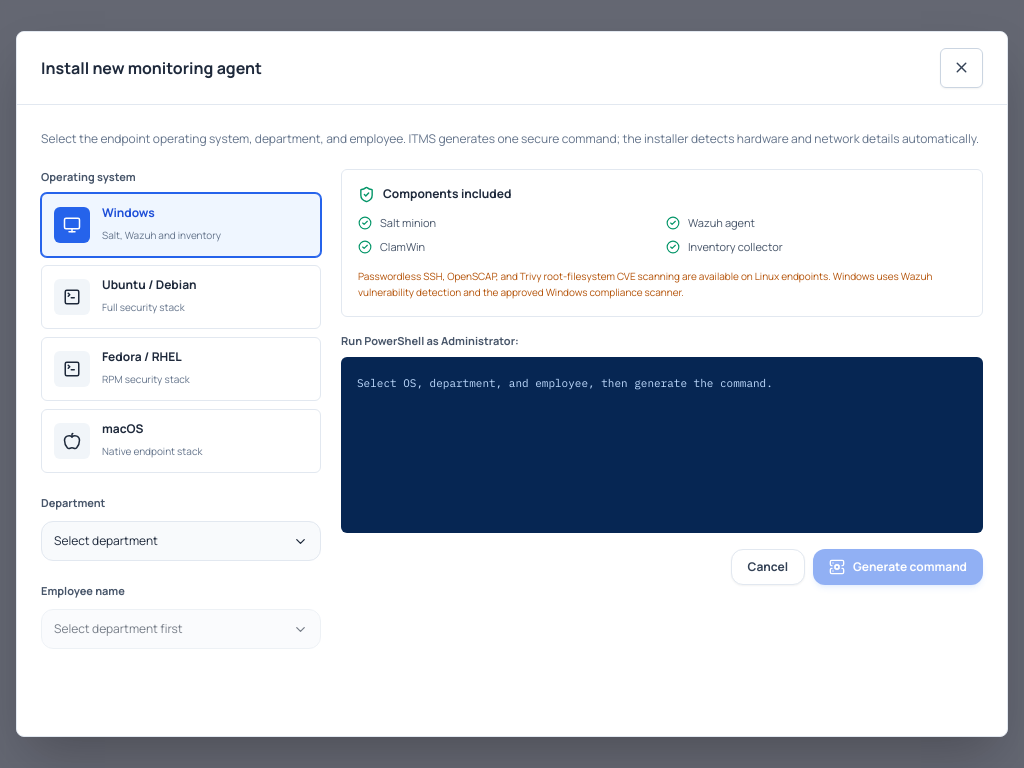
Test: InstallAgentModal › loads fallback employees when the directory only provides a department name
The width and height of the screenshot is (1024, 768).
Click the dropdown labelled "Select department": (106, 541) [41,521,321,561]
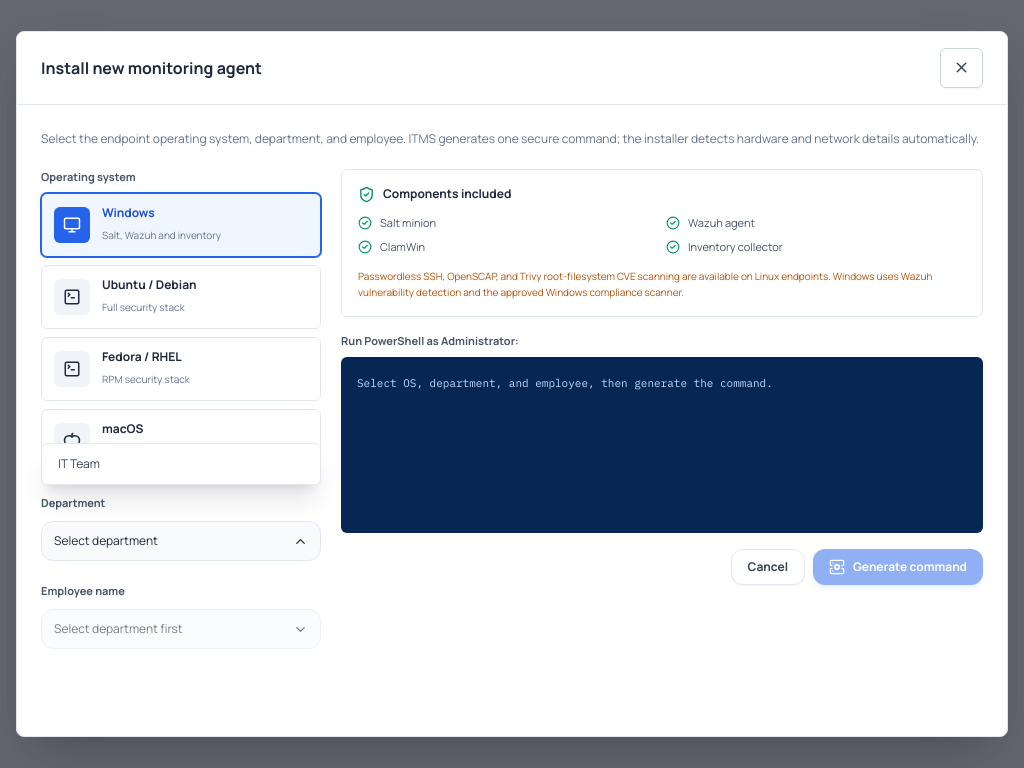
Press the mouse on the option "IT Team": (79, 464) [46,448,316,480]
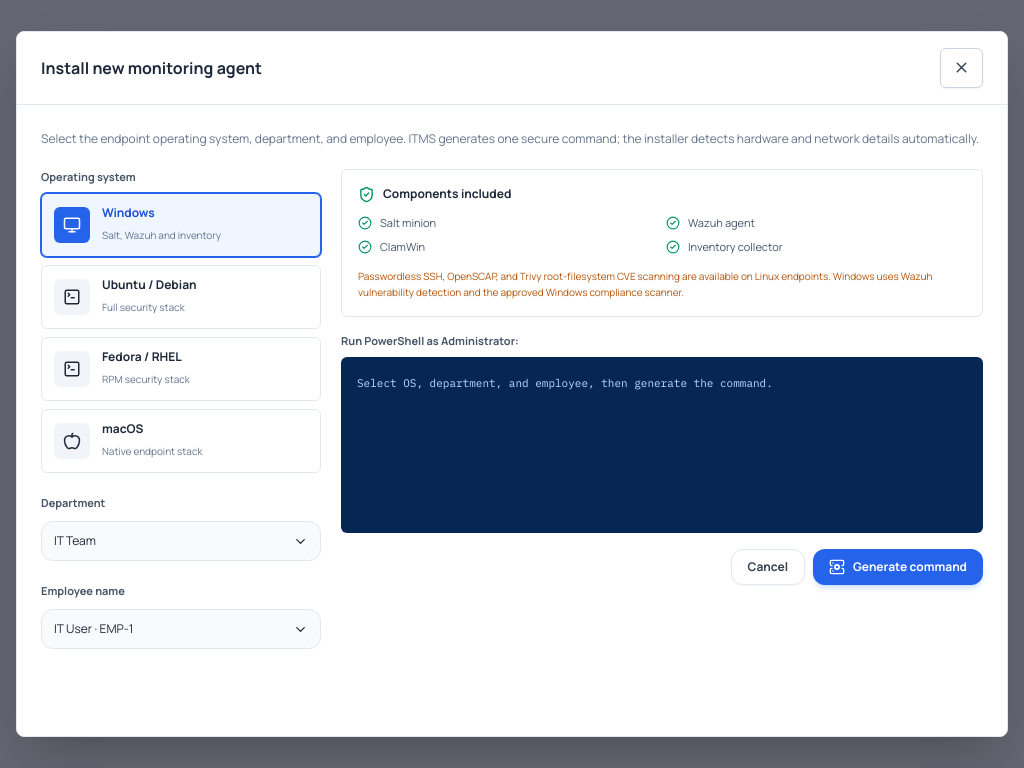
Result: the dropdown named "Department" reads "IT Team" at [41,521,321,561]
Result: the dropdown named "Employee name" reads "IT User · EMP-1" at [41,609,321,649]
